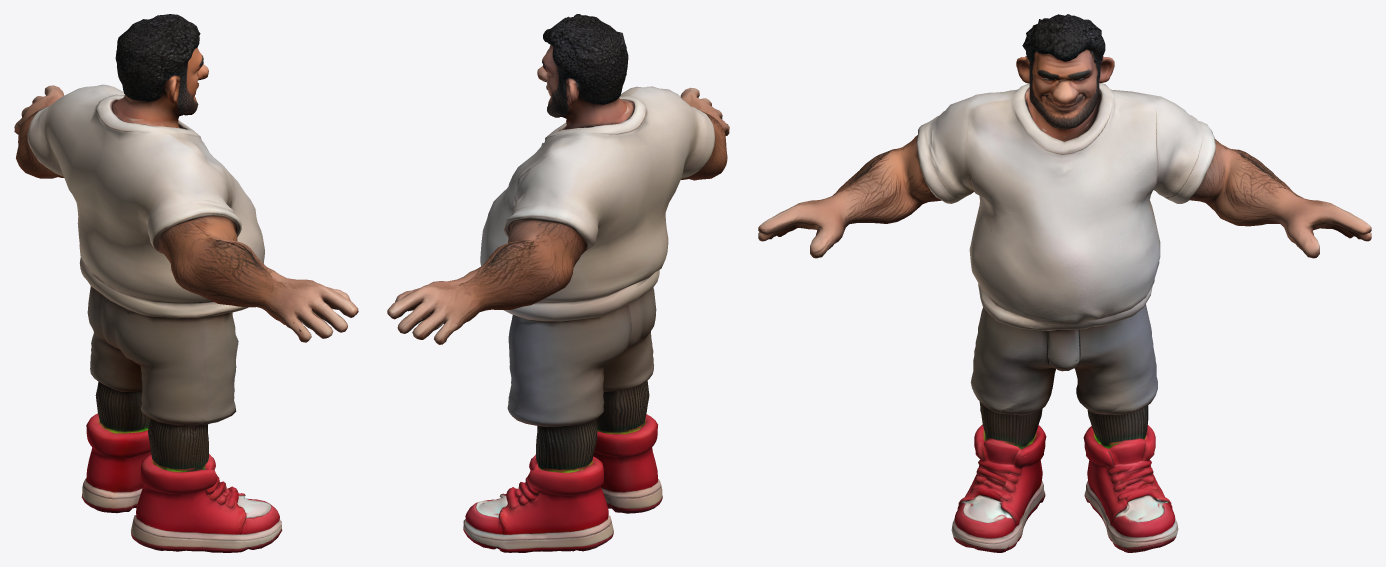
The picture shows the model from 3 angles, left to right: view 1: azimuth 30°, elevation 25°; view 2: azimuth 150°, elevation 25°; view 3: azimuth 270°, elevation 25°; orthographic projection.
Parts seen in each view (by area): view 1: tripo_node_338d4948; view 2: tripo_node_338d4948; view 3: tripo_node_338d4948.
Boxes of the visible parts, <box> form: tripo_node_338d4948: <box>14,14,358,552</box>; tripo_node_338d4948: <box>387,14,729,552</box>; tripo_node_338d4948: <box>758,14,1371,552</box>.
Bounding box in the file's own units: 31.51 × 90.61 × 100.
Materials: 1 (1 with a texture image).
